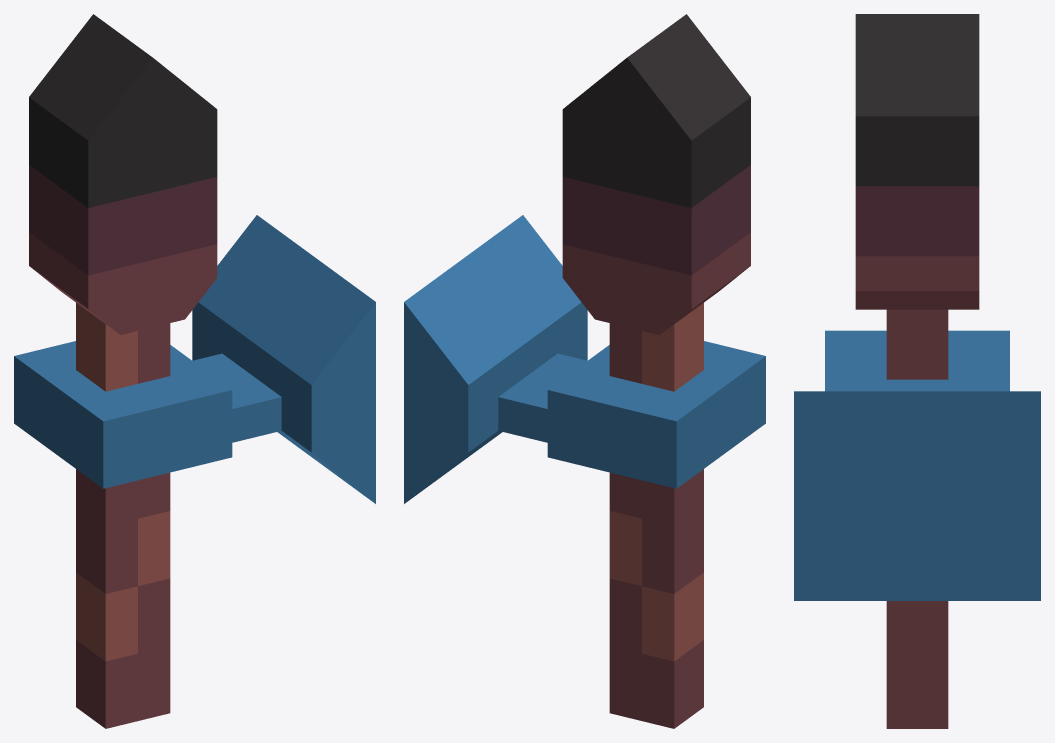
Rendered from torch.glb.
3 renders of one model, left to right at view 1: azimuth 30°, elevation 25°; view 2: azimuth 150°, elevation 25°; view 3: azimuth 270°, elevation 25°, orthographic. The views are drawn at different scales.
Visible parts, largest first — view 1: generated(Clone); view 2: generated(Clone); view 3: generated(Clone).
Part boxes in pixels (x1=…): generated(Clone): x1=14, y1=14, x2=375, y2=728; generated(Clone): x1=404, y1=14, x2=765, y2=728; generated(Clone): x1=794, y1=14, x2=1040, y2=728.
Size of the model in its own units: 4 by 10 by 3.2.
1 material, 1 textured.
